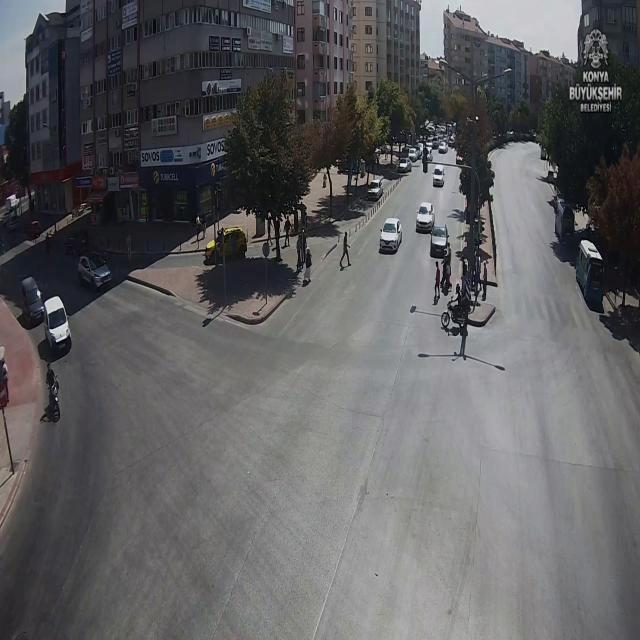Bus: (576, 240, 604, 306)
Car: (203, 226, 247, 264), (78, 254, 113, 289), (20, 277, 44, 322), (379, 217, 403, 253), (430, 223, 450, 257), (416, 202, 434, 231), (367, 178, 384, 200), (433, 166, 445, 187), (396, 158, 412, 173), (408, 148, 421, 162), (438, 142, 448, 153)
Van: (42, 297, 72, 349)
